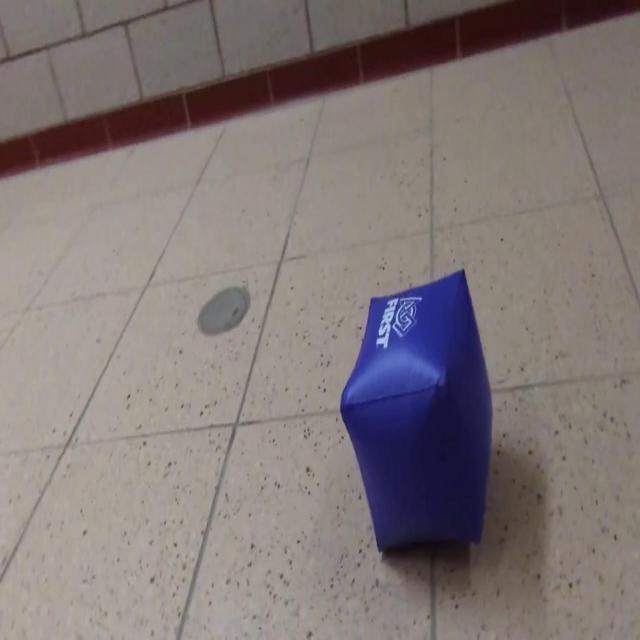frc_cube: (339, 268, 494, 560)
